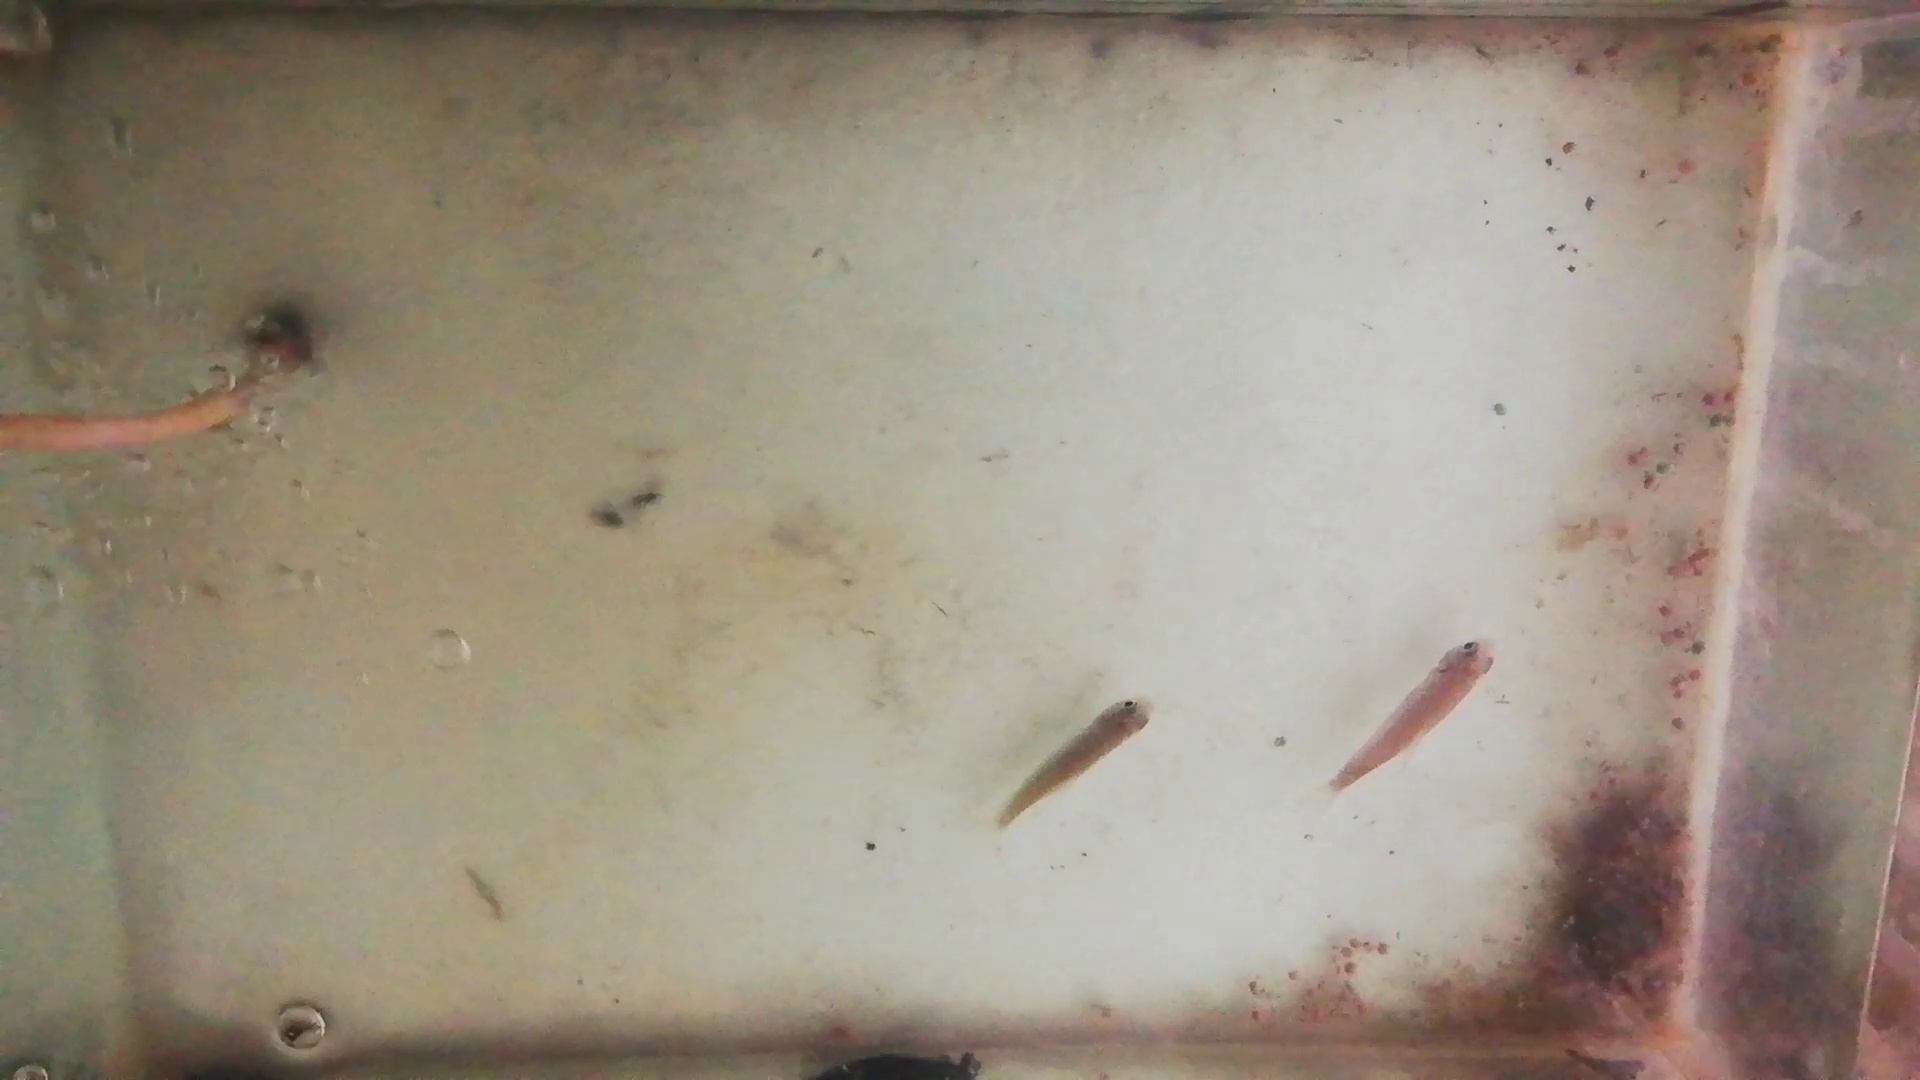fish: (1332, 634, 1501, 794), (998, 698, 1158, 829)
